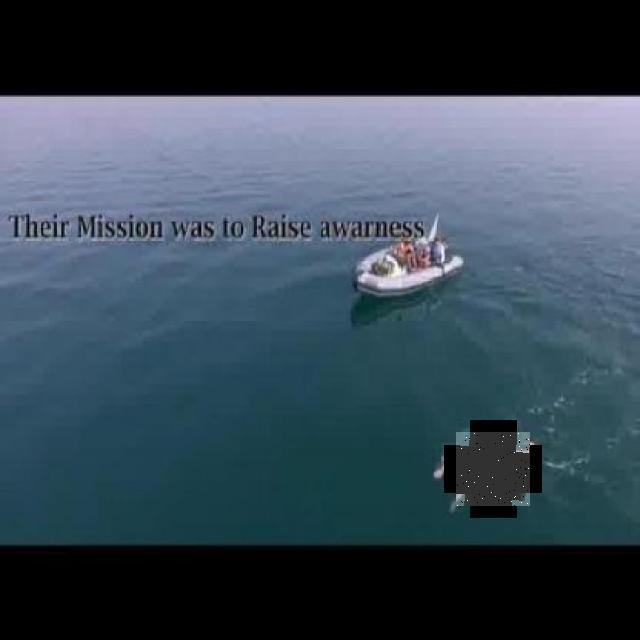swimming: (456, 432, 530, 506)
